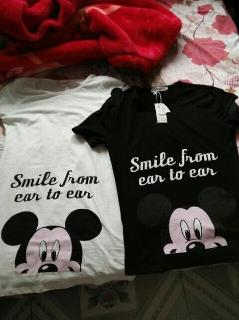short sleeve dress: (0, 74, 137, 297)
short sleeve top: (72, 82, 239, 276)
